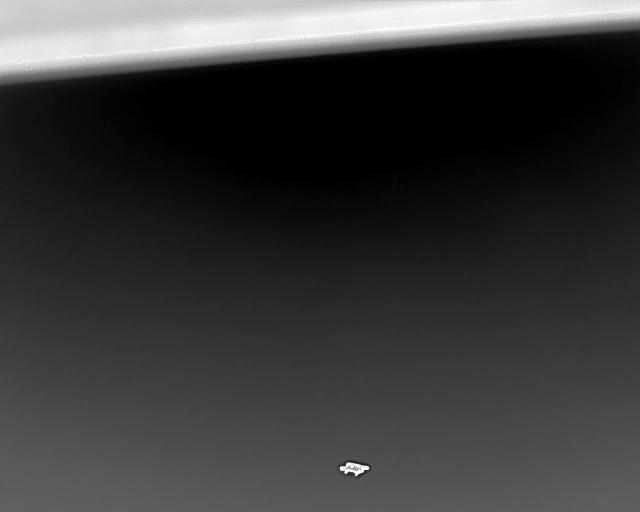fpv-drone: (339, 462, 369, 476)
